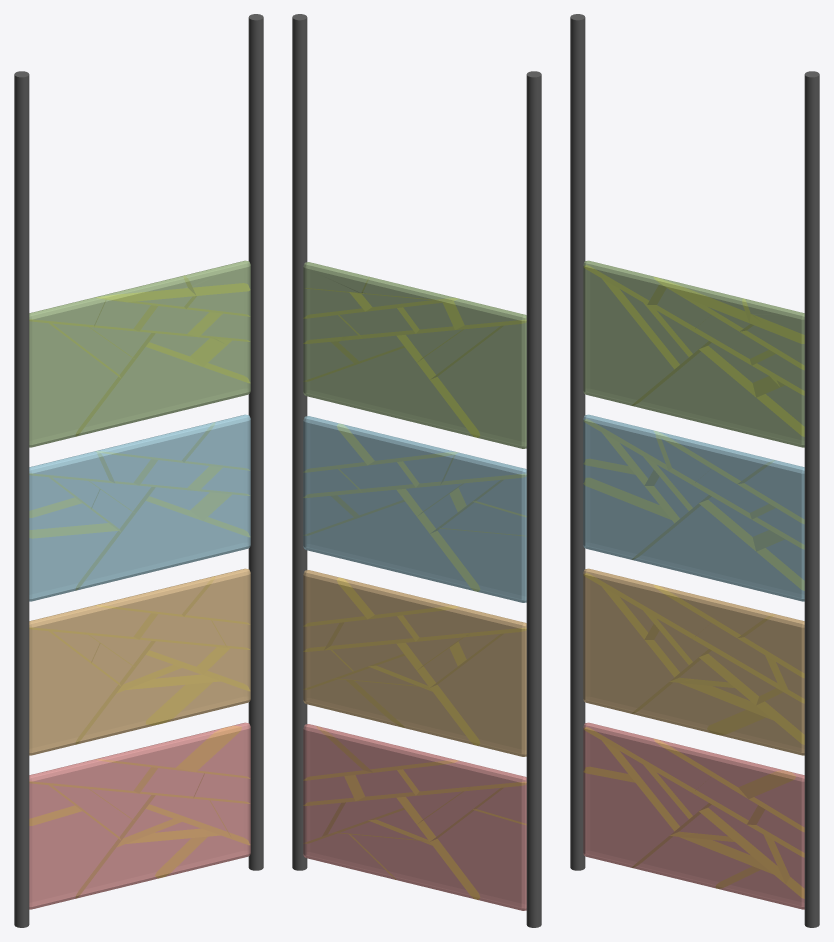
File: Shatter-Gate.fbx
3 views of the same model, side by side, from view 1: azimuth 30°, elevation 25°; view 2: azimuth 150°, elevation 25°; view 3: azimuth 330°, elevation 25° (orthographic).
Visible parts, largest first — view 1: gatecylndr, shard2, shard32, shard22, shard7, shard55, shard24, shard54, shard42, shard57, shard50, shard35 (+48 smaller); view 2: gatecylndr, shard2, shard32, shard22, shard7, shard55, shard24, shard54, shard42, shard50, shard35, shard26 (+48 smaller); view 3: gatecylndr, shard2, shard32, shard7, shard22, shard55, shard24, shard54, shard42, shard50, shard57, shard35 (+48 smaller).
Boxes of the visible parts, x1,y1,x2,y2 form: gatecylndr: (14, 14, 263, 927); shard2: (29, 320, 120, 447); shard32: (29, 629, 120, 755); shard22: (76, 497, 250, 590); shard7: (77, 343, 250, 436); shard55: (29, 811, 120, 909); shard24: (29, 524, 120, 601); shard54: (76, 829, 207, 898); shard42: (77, 682, 212, 744); shard57: (95, 725, 241, 772); shard50: (29, 759, 157, 793); shard35: (29, 605, 157, 639); gatecylndr: (292, 14, 541, 927); shard2: (430, 320, 526, 448); shard32: (430, 630, 526, 756); shard22: (303, 499, 479, 590); shard7: (303, 345, 473, 436); shard55: (430, 809, 526, 910); shard24: (430, 527, 526, 602); shard54: (348, 833, 479, 898); shard42: (354, 680, 473, 744); shard50: (397, 760, 526, 795); shard35: (397, 606, 526, 641); shard26: (303, 416, 367, 472); gatecylndr: (570, 14, 819, 927); shard2: (583, 265, 679, 405); shard32: (583, 575, 674, 713); shard7: (631, 346, 804, 447); shard22: (631, 500, 804, 601); shard55: (583, 772, 679, 867); shard24: (583, 478, 676, 559); shard54: (631, 833, 761, 888); shard42: (631, 682, 765, 735); shard50: (583, 722, 714, 792); shard57: (653, 738, 796, 799); shard35: (583, 568, 710, 638).
Bounding box in the file's own units: 6723 × 22093 × 345.
